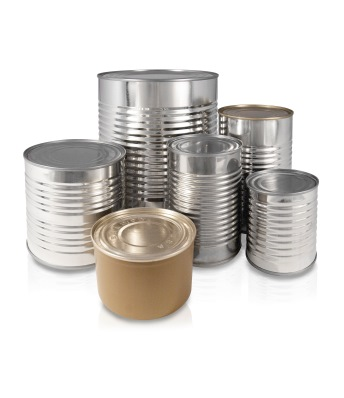Rec_Metal: (95, 64, 223, 211), (85, 199, 202, 325), (25, 134, 117, 268), (217, 95, 298, 230), (167, 131, 244, 266), (247, 168, 322, 276)
